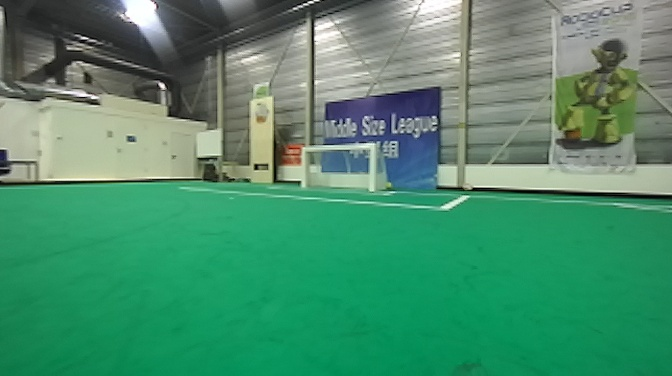ball: (461, 182, 472, 191), (384, 179, 392, 188)
goalpost: (364, 144, 383, 195), (296, 143, 310, 192)
